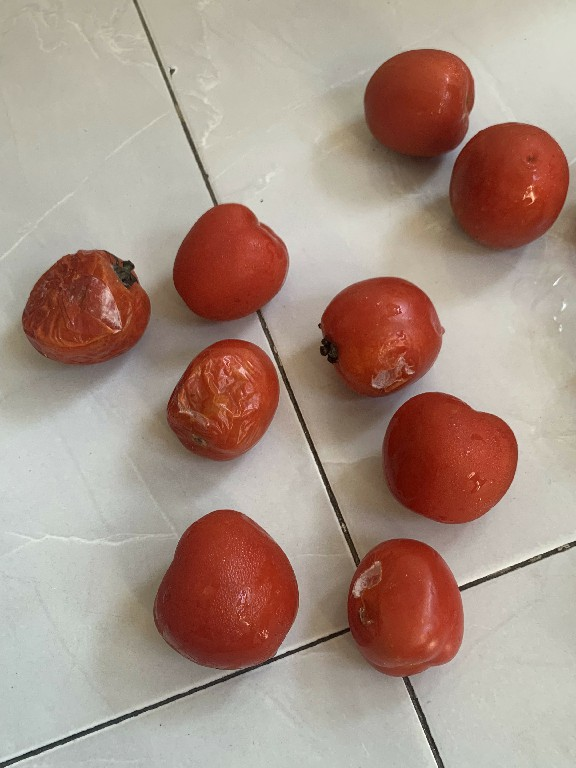NG: (332, 529, 479, 690), (13, 232, 156, 378), (312, 265, 446, 403), (156, 329, 285, 470)
OK: (137, 497, 314, 678), (375, 380, 524, 534), (438, 111, 575, 260), (156, 190, 292, 327), (357, 33, 480, 172)
